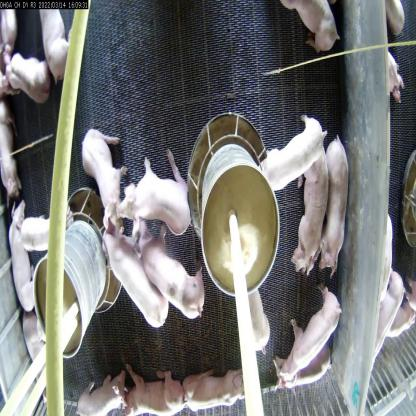Pig: (245, 105, 328, 204), (104, 224, 165, 342), (266, 286, 338, 371), (142, 248, 206, 343), (116, 171, 194, 245), (309, 136, 347, 284), (0, 211, 44, 329), (166, 348, 242, 412), (290, 144, 326, 270), (78, 123, 124, 217), (118, 356, 173, 416), (31, 0, 66, 80), (3, 59, 42, 127), (59, 367, 110, 415), (0, 86, 20, 206), (16, 202, 56, 257)
